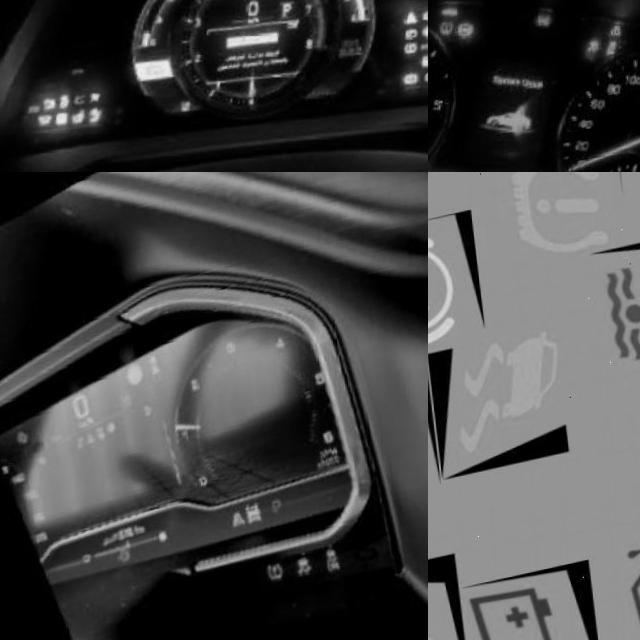Low fuel level: (118, 549, 132, 566)
